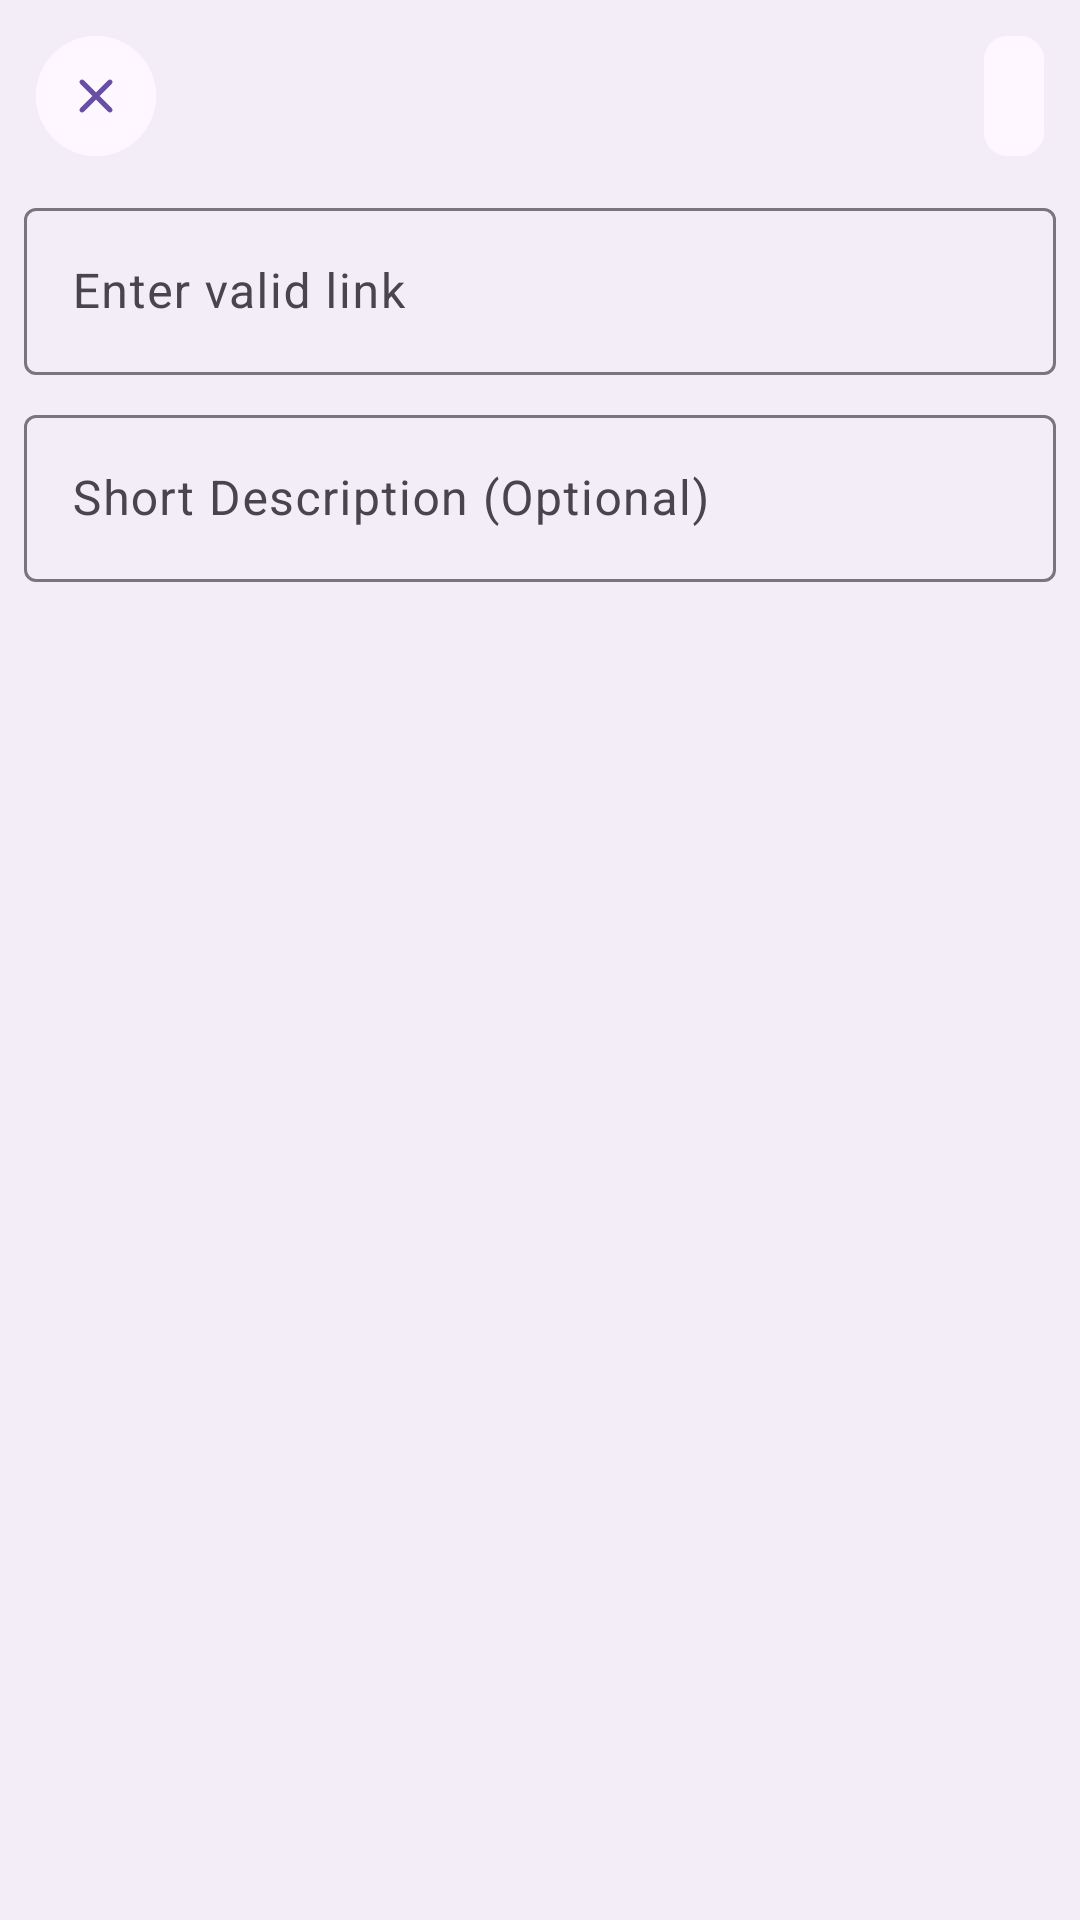

Where to tap for icons on this 1080×1920 app screen, as (x=x, y=y):
close: (x=96, y=96)
